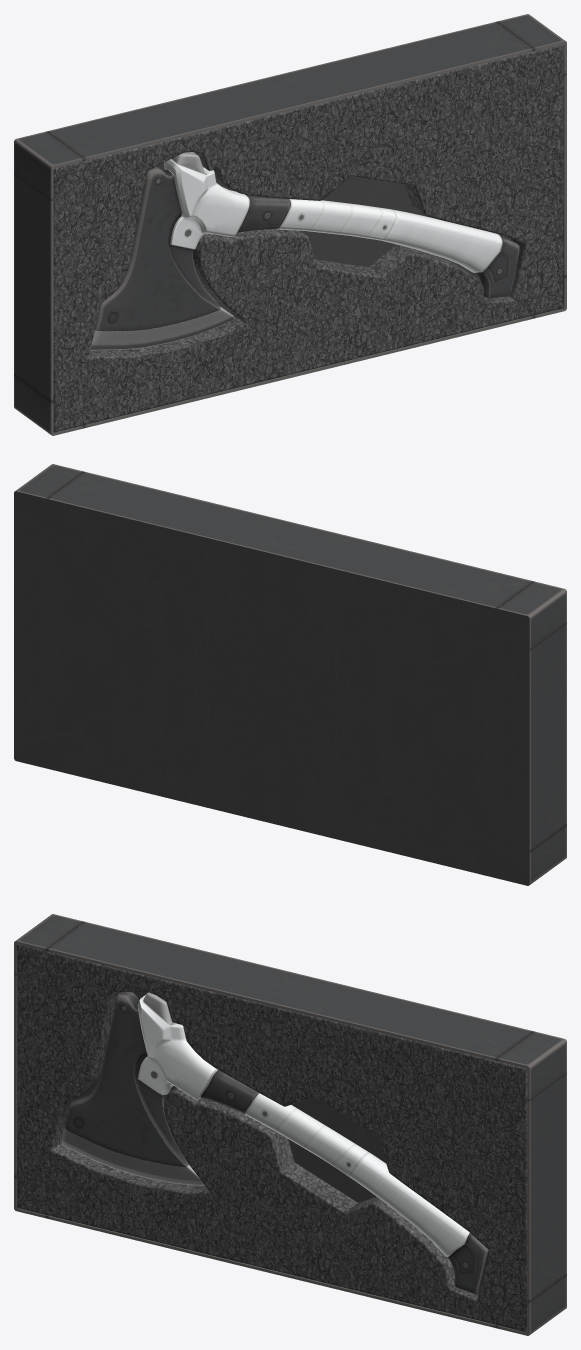
Rendered from MeleeAxe01Case.FBX.
3 renders of one model, top to bottom at view 1: azimuth 30°, elevation 25°; view 2: azimuth 150°, elevation 25°; view 3: azimuth 330°, elevation 25°, orthographic.
Visible parts, largest first — view 1: Case, Weapon; view 2: Case; view 3: Case, Weapon.
Part boxes in pixels (x1=…): Case: x1=14, y1=14, x2=566, y2=435; Weapon: x1=90, y1=152, x2=519, y2=350; Case: x1=14, y1=464, x2=566, y2=885; Case: x1=14, y1=914, x2=566, y2=1335; Weapon: x1=61, y1=992, x2=488, y2=1295.
Size of what is drawn, in the model's own units: 0.8 by 0.4 by 0.1066.
